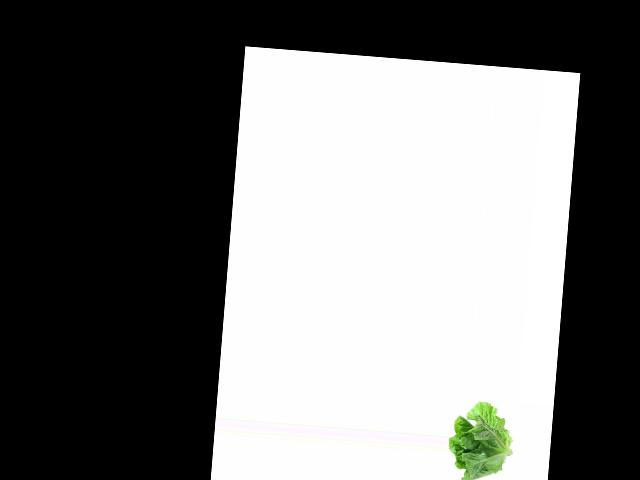lettuce: (446, 400, 513, 480)
